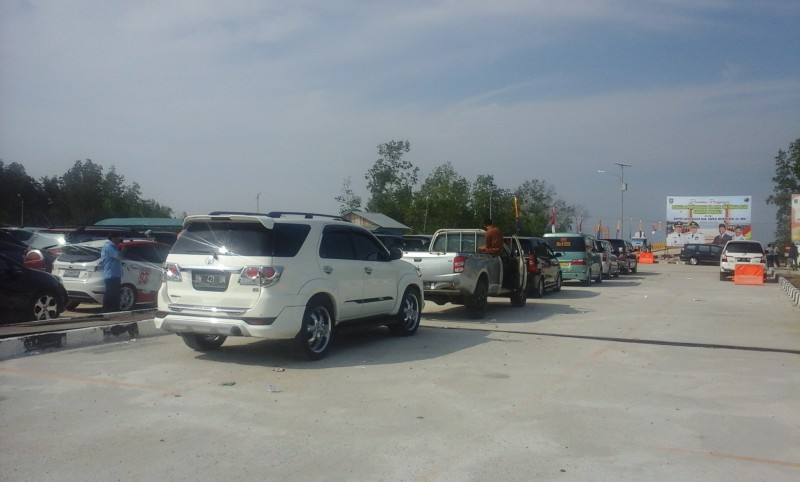plate: (190, 272, 229, 289)
